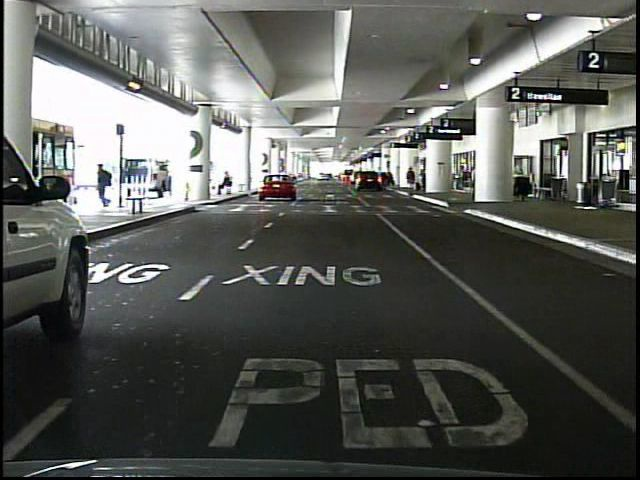person: (99, 162, 116, 208), (219, 173, 238, 197), (407, 164, 419, 193)
